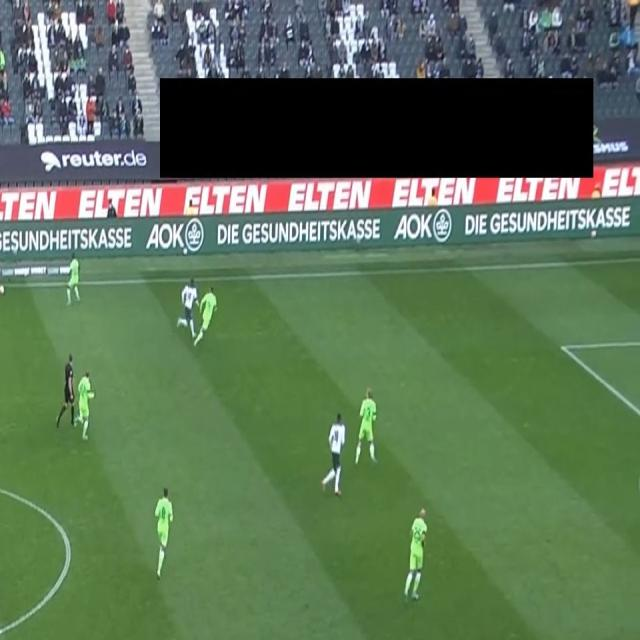ball: (0, 283, 5, 295)
